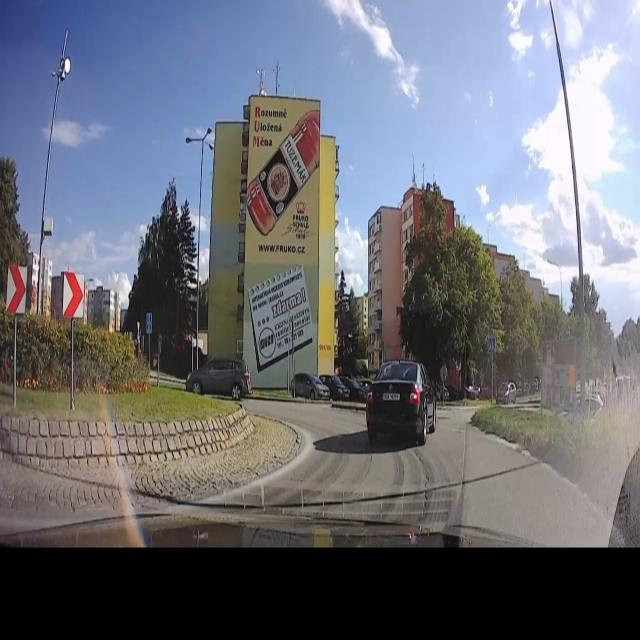Pedestrian crosswalk: (487, 335, 497, 356), (147, 324, 152, 336)
